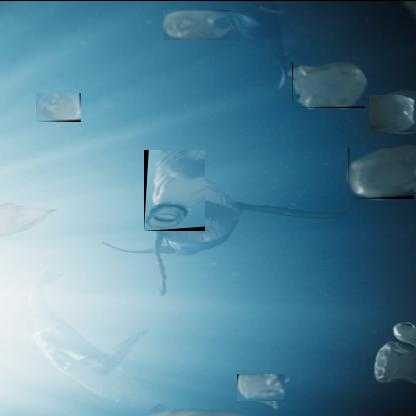bottle: (144, 148, 206, 230)
plastic-bag: (292, 60, 366, 107)
waste: (348, 146, 415, 198), (163, 8, 232, 39), (369, 93, 415, 132), (238, 372, 288, 400), (36, 91, 82, 121)
